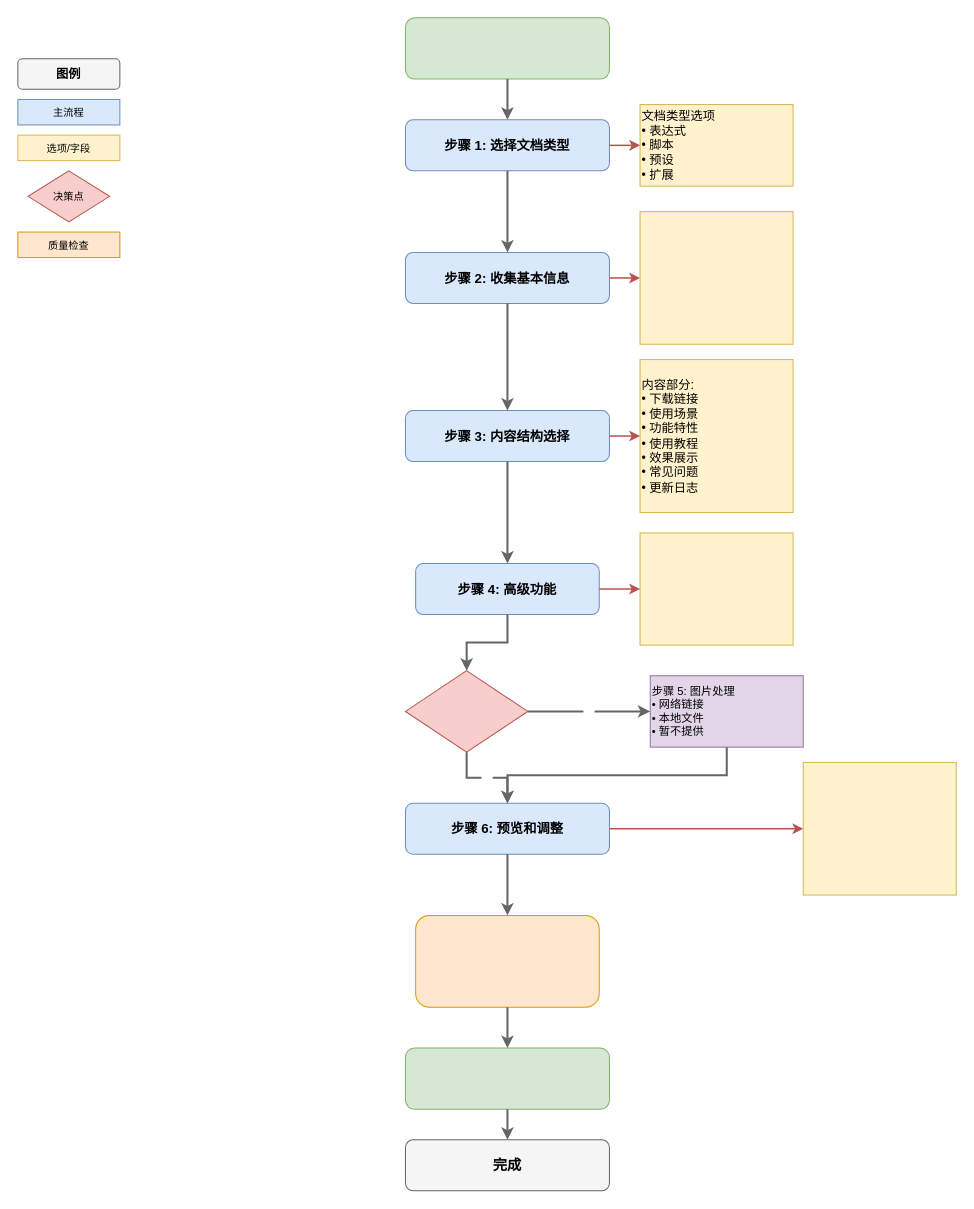
This 974x1209 diagram has some shape labels left out. Each missing label, with the centre of its shape:
"保存文档 • 创建 .md 文件 • 更新 _manifest.json" goes at (506,1078).
"开始 创建文档" goes at (506,48).
"必需字段: • 标题 • 作者 • 标签 • 描述 可选字段: • 收藏 • 封面" goes at (716,277).
"调整选项: • 修改标题 • 修改描述 • 添加/删除内容 • 调整图片 • 完成" goes at (879,828).
"质量检查 • 元数据完整 • 链接有效 • 格式正确 • 清单更新" goes at (507,960).
"需要图片?" goes at (466,711).
"高级功能: • 流程图 • 代码示例 • 界面截图 • 视频教程" goes at (716,588).
